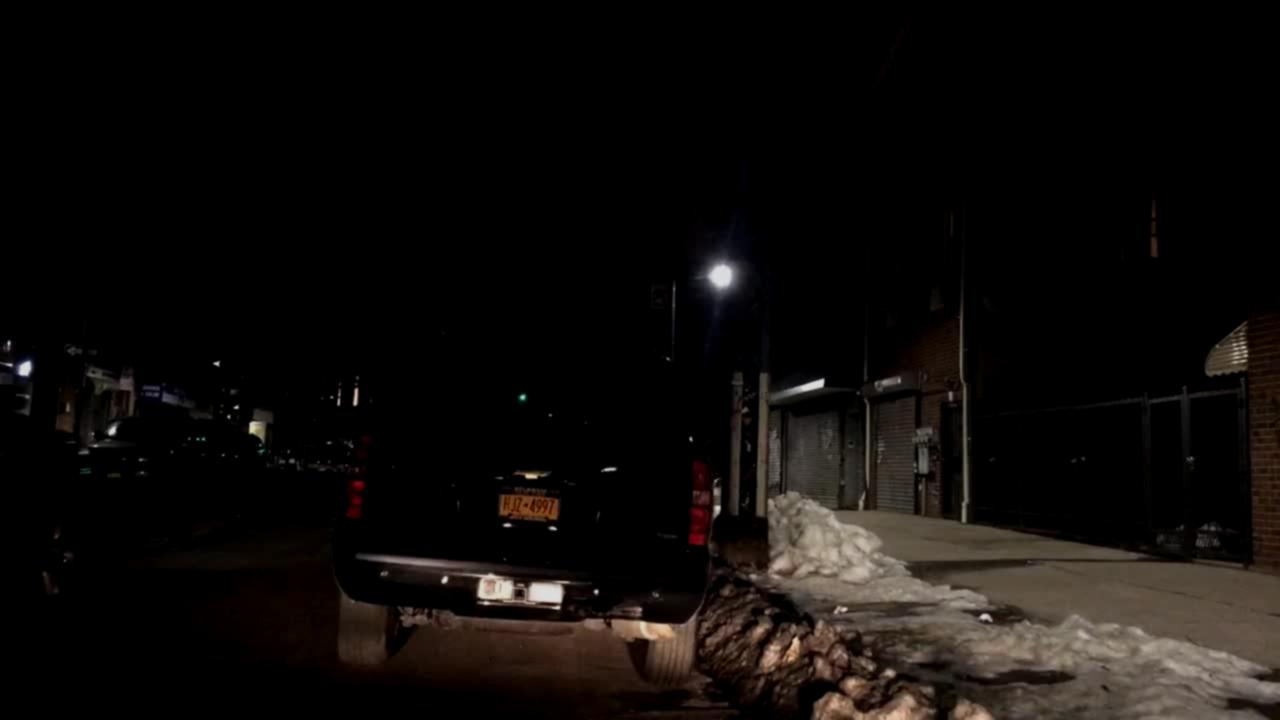chevrolet: (510, 453, 562, 491)
